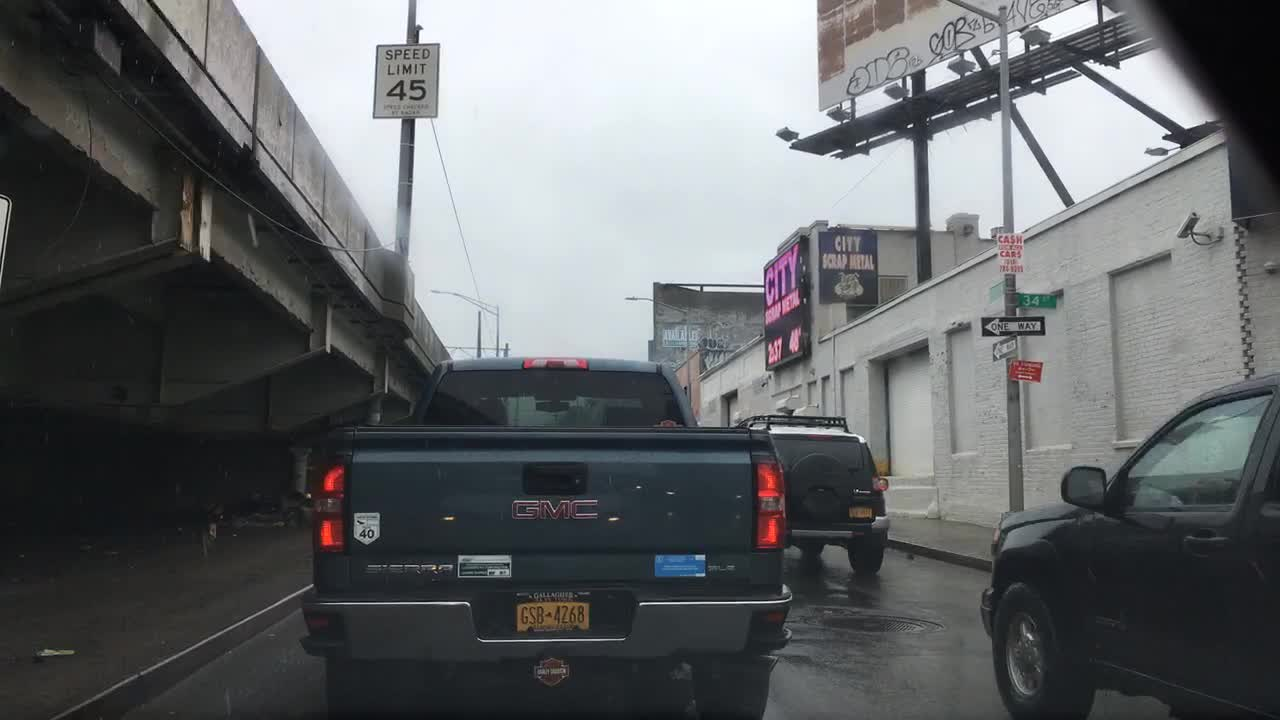car: (976, 370, 1278, 718), (734, 414, 895, 578)
traffic sign: (370, 41, 444, 120), (981, 316, 1047, 338), (1008, 358, 1047, 383), (1016, 291, 1062, 308), (990, 336, 1019, 360), (986, 279, 1008, 300)
truck: (299, 350, 791, 718)
